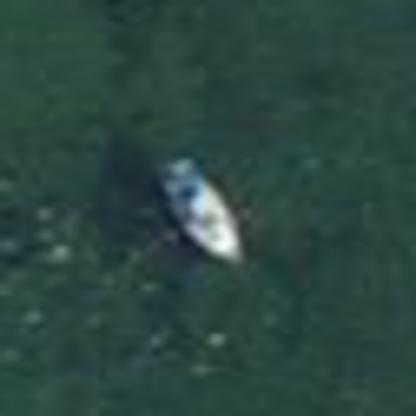ship: (143, 145, 281, 273)
